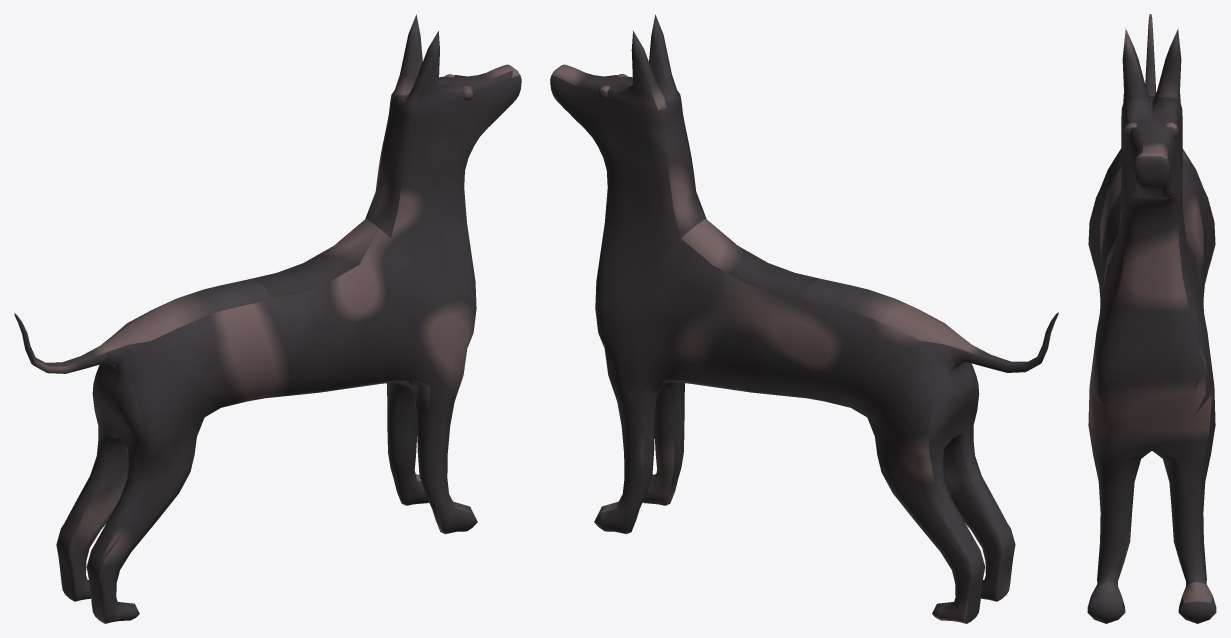
The model's file is xolo.obj.
The picture shows the model from 3 angles, left to right: view 1: azimuth 30°, elevation 25°; view 2: azimuth 150°, elevation 25°; view 3: azimuth 270°, elevation 25°; orthographic projection. The views are drawn at different scales.
Parts seen in each view (by area): view 1: xolo; view 2: xolo; view 3: xolo.
Boxes of the visible parts, bbox=[...] form: xolo: bbox=[14, 14, 521, 623]; xolo: bbox=[550, 14, 1058, 623]; xolo: bbox=[1087, 14, 1216, 623].
Bounding box in the file's own units: 0.75 × 0.7265 × 0.1421.
